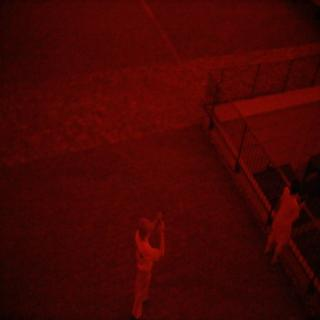person: (126, 205, 178, 320), (262, 169, 310, 260)
